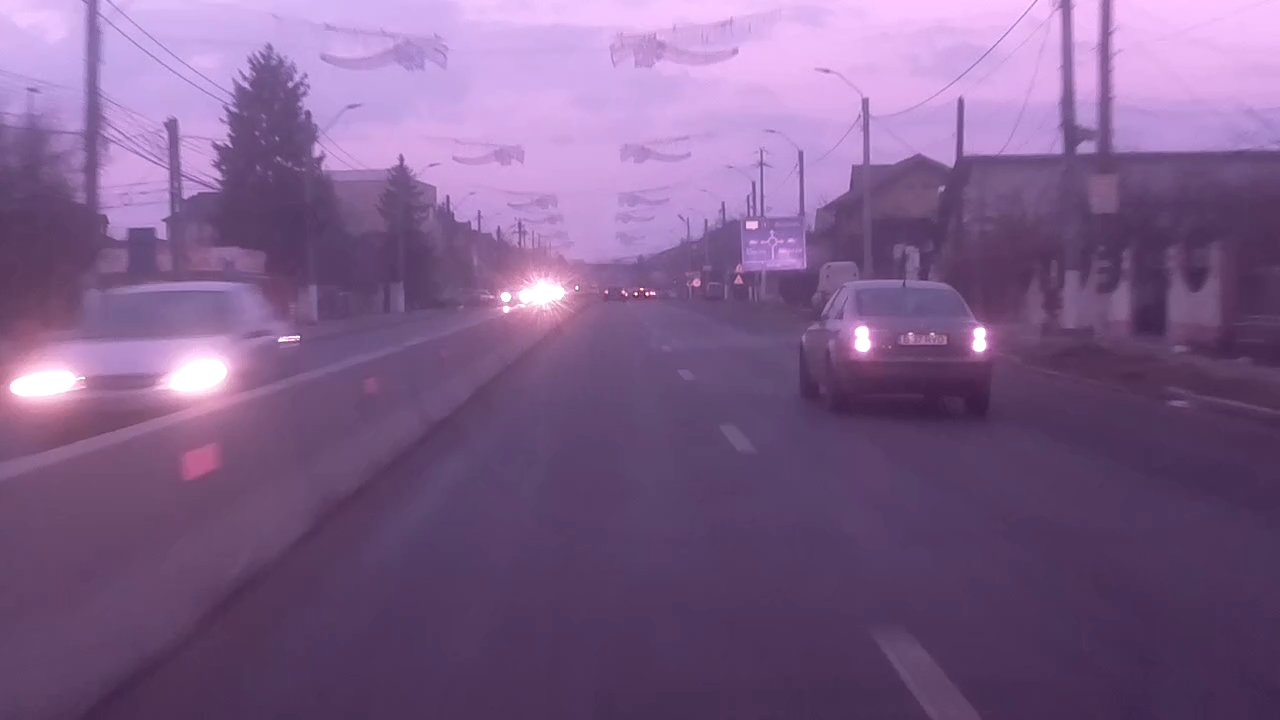license-plate: (894, 331, 951, 346)
